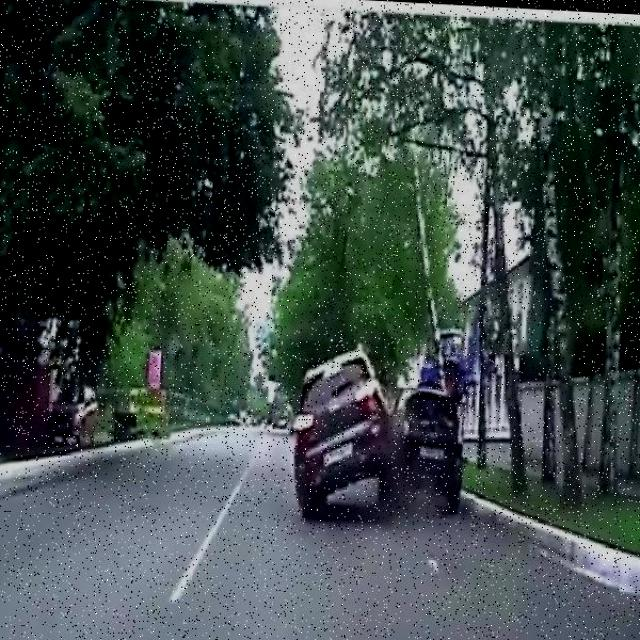accident: (280, 334, 486, 529)
